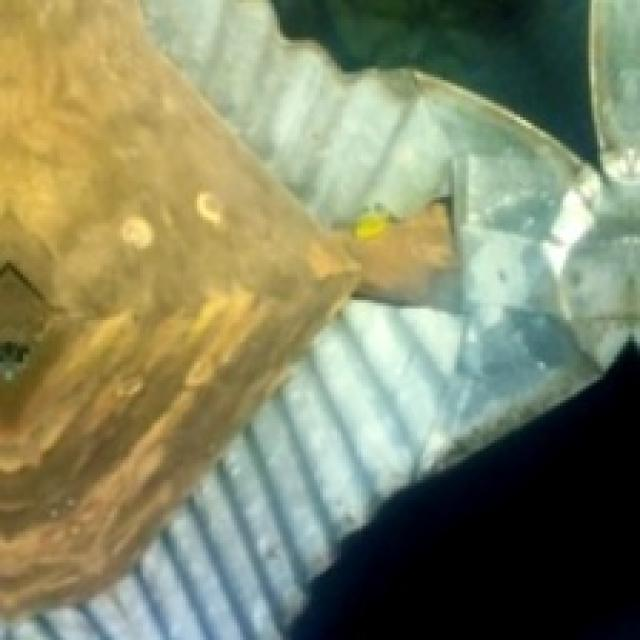red-tailed green ratsnake: (352, 211, 391, 240)
